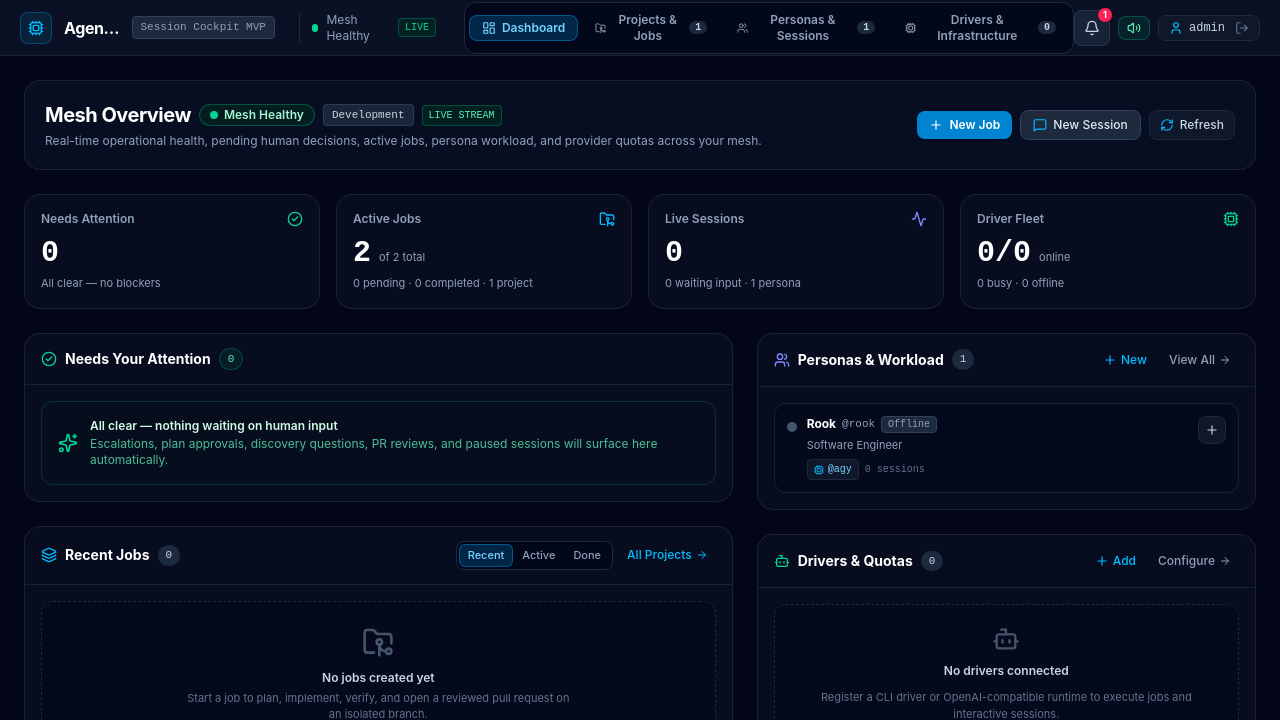
Test: Attention wiring in App › mutes desktop alerts from the header switch and persists it for the next load
The image size is (1280, 720).
Expected: the text with test id "attention-badge" is shown, [1097,6,1113,22]
What coordinates should you click on to do the following:
click the button with test id "notification-mute-toggle"
I would click on:
 (1134, 28)
Its box is [1118,16,1150,40].
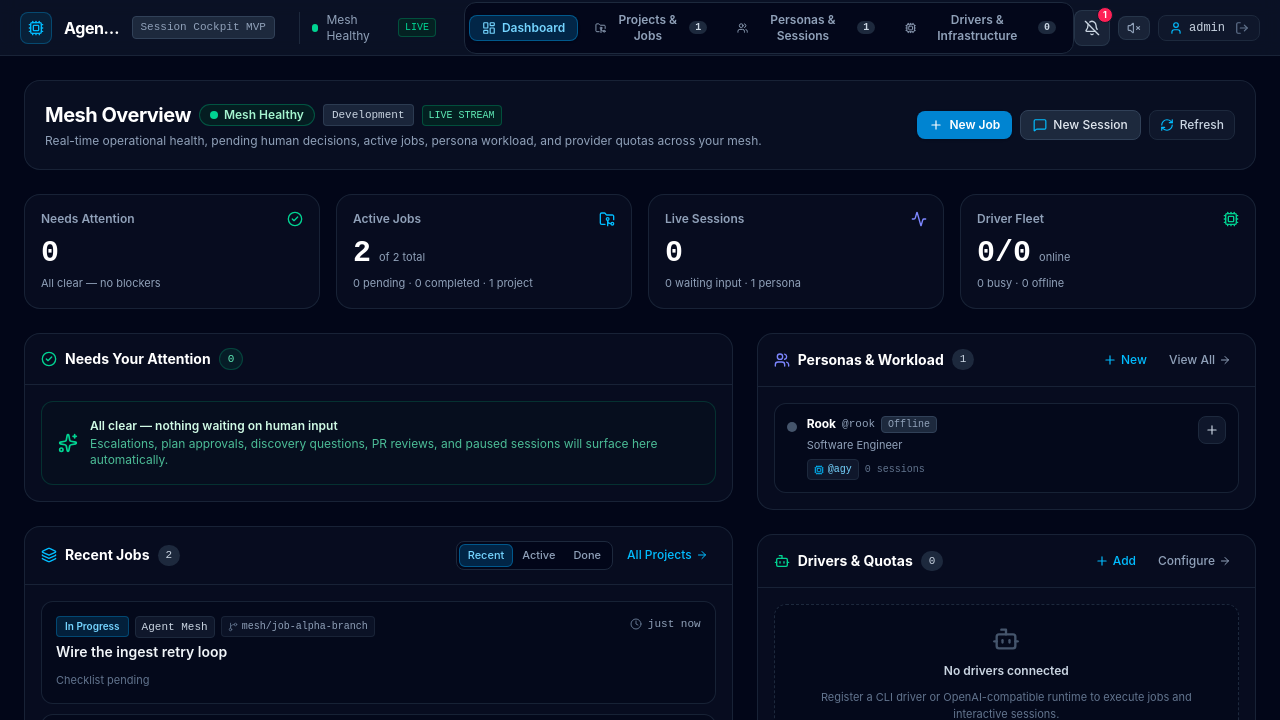
Expected: the button with test id "notification-mute-toggle" is pressed, [1118,16,1150,40]
What coordinates should you click on to do the following:
click the button with test id "attention-bell-button"
I would click on:
 (1092, 28)
Its box is [1074,10,1110,46].
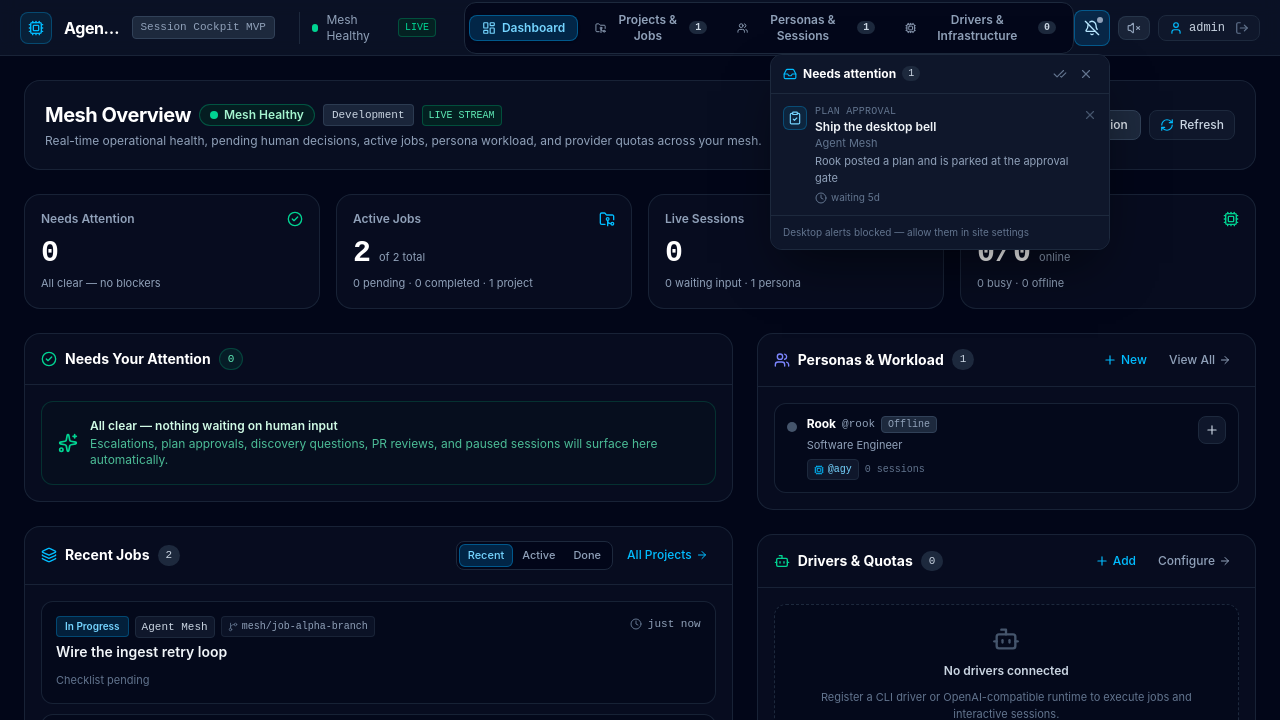
Expected: the list item with test id "attention-row-job-beta:planApproval" is shown, [771,94,1109,215]
